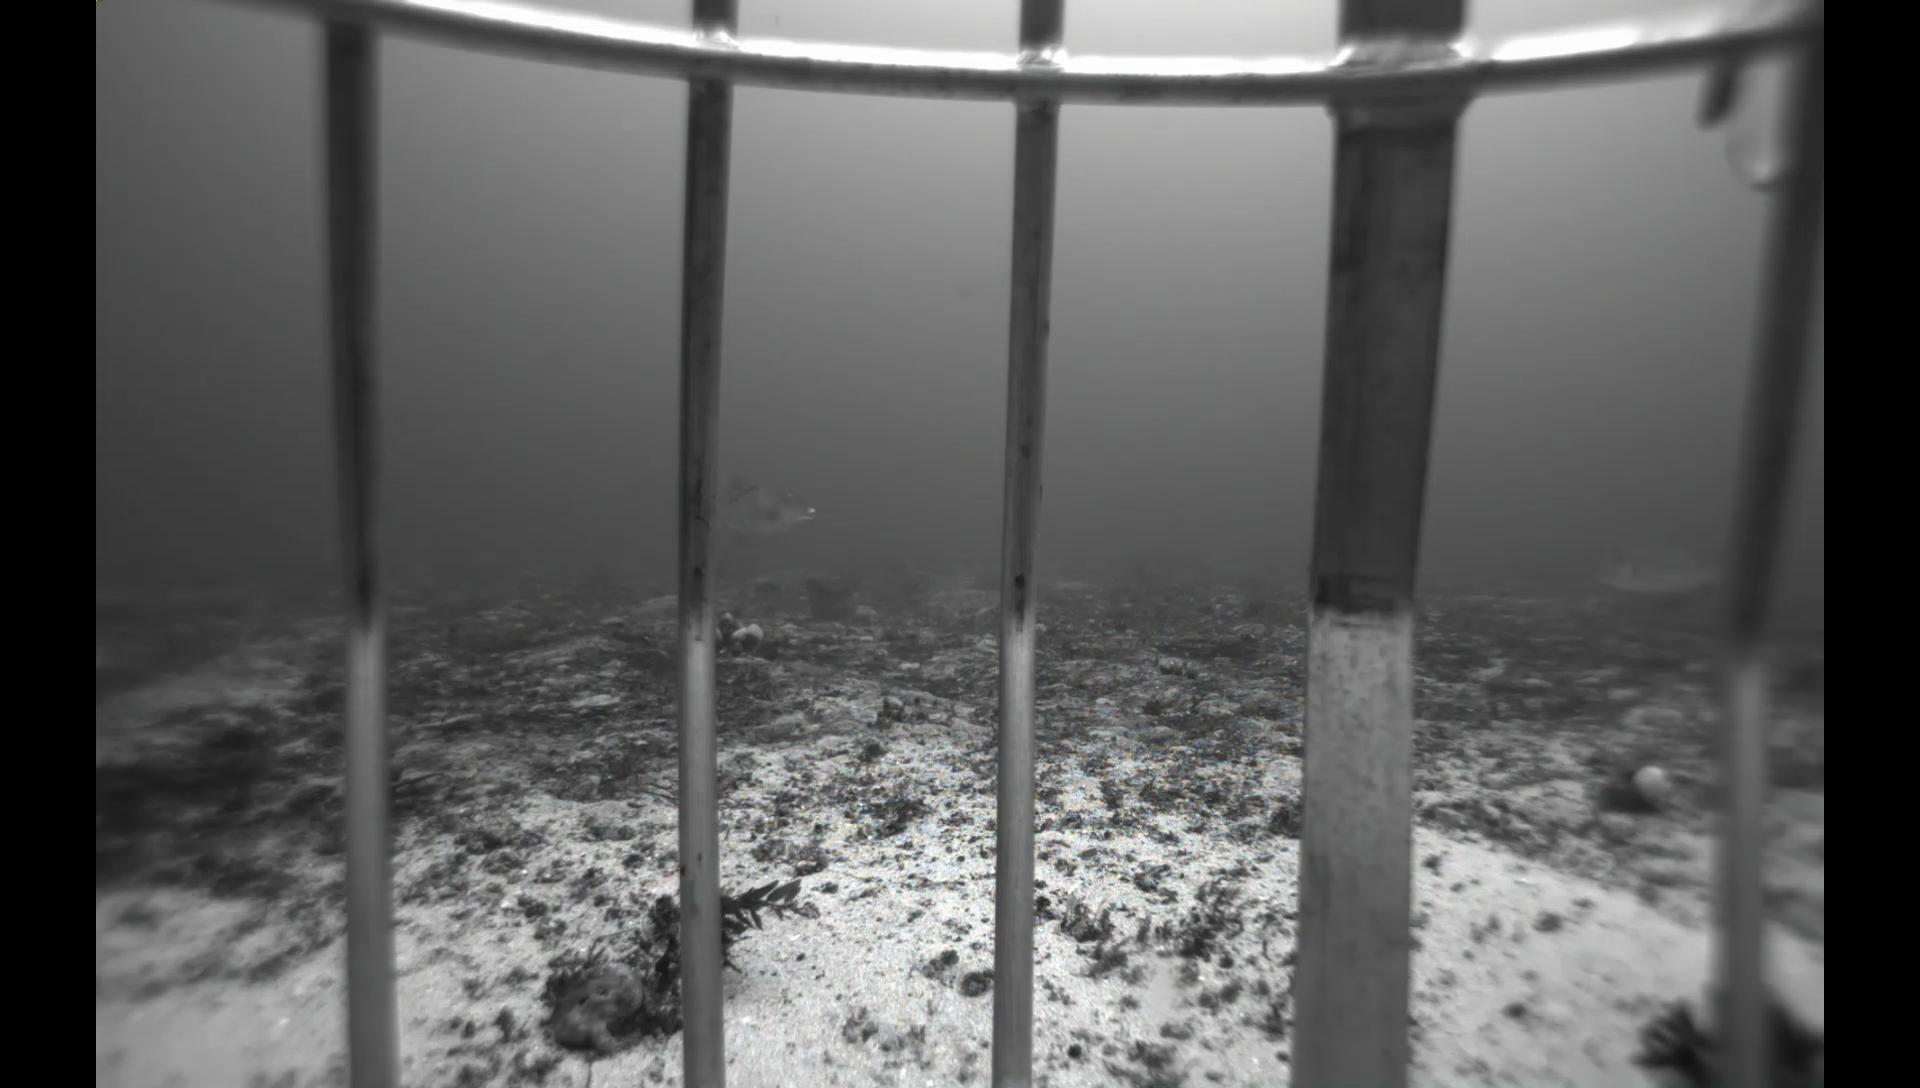BALISTESCAPRISCUS-189030502: (716, 476, 824, 560)
PAGRUSPAGRUS-170212302: (1589, 531, 1725, 599)
PRISTIGENYSALTA-170050401: (302, 677, 344, 717)
